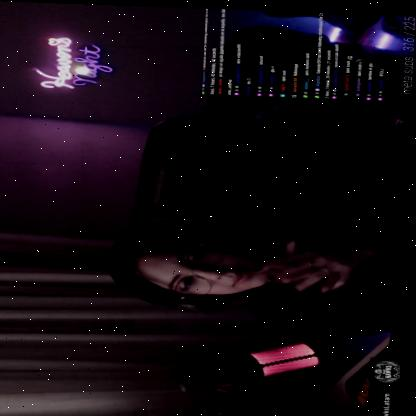streamer: (103, 175, 410, 334)
